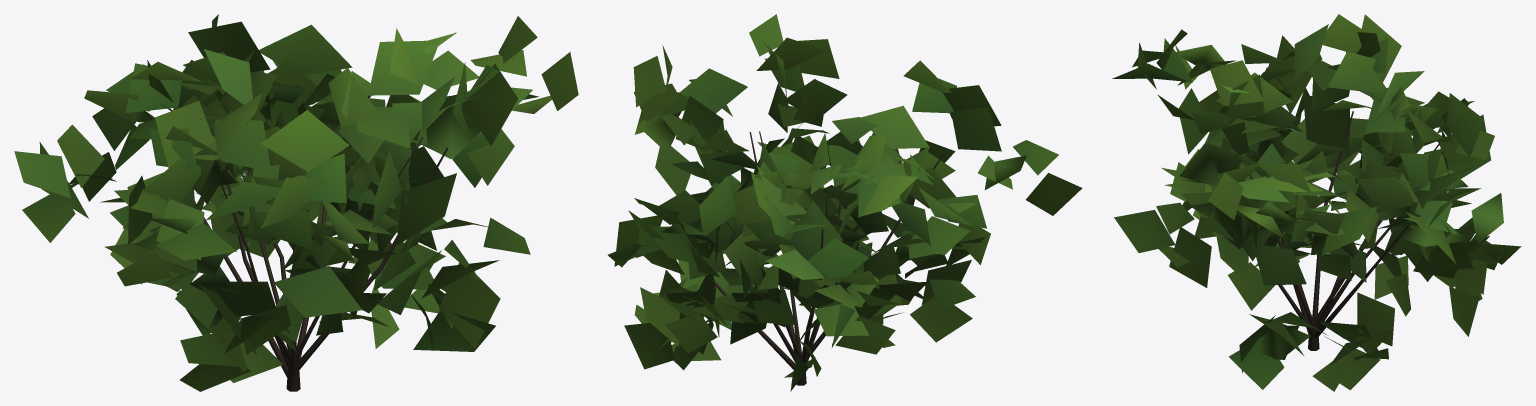
Rendered from bush-hazel-a.lod1.glb.
3 renders of one model, left to right at view 1: azimuth 30°, elevation 25°; view 2: azimuth 150°, elevation 25°; view 3: azimuth 270°, elevation 25°, orthographic. The views are drawn at different scales.
Parts seen in each view (by area): view 1: bush-hazel-a.lod1; view 2: bush-hazel-a.lod1; view 3: bush-hazel-a.lod1.
Boxes of the visible parts, bbox=[...] form: bush-hazel-a.lod1: bbox=[14, 14, 578, 391]; bush-hazel-a.lod1: bbox=[608, 14, 1082, 391]; bush-hazel-a.lod1: bbox=[1112, 14, 1521, 391].
Bounding box in the file's own units: 2.91 × 2.16 × 2.55.
